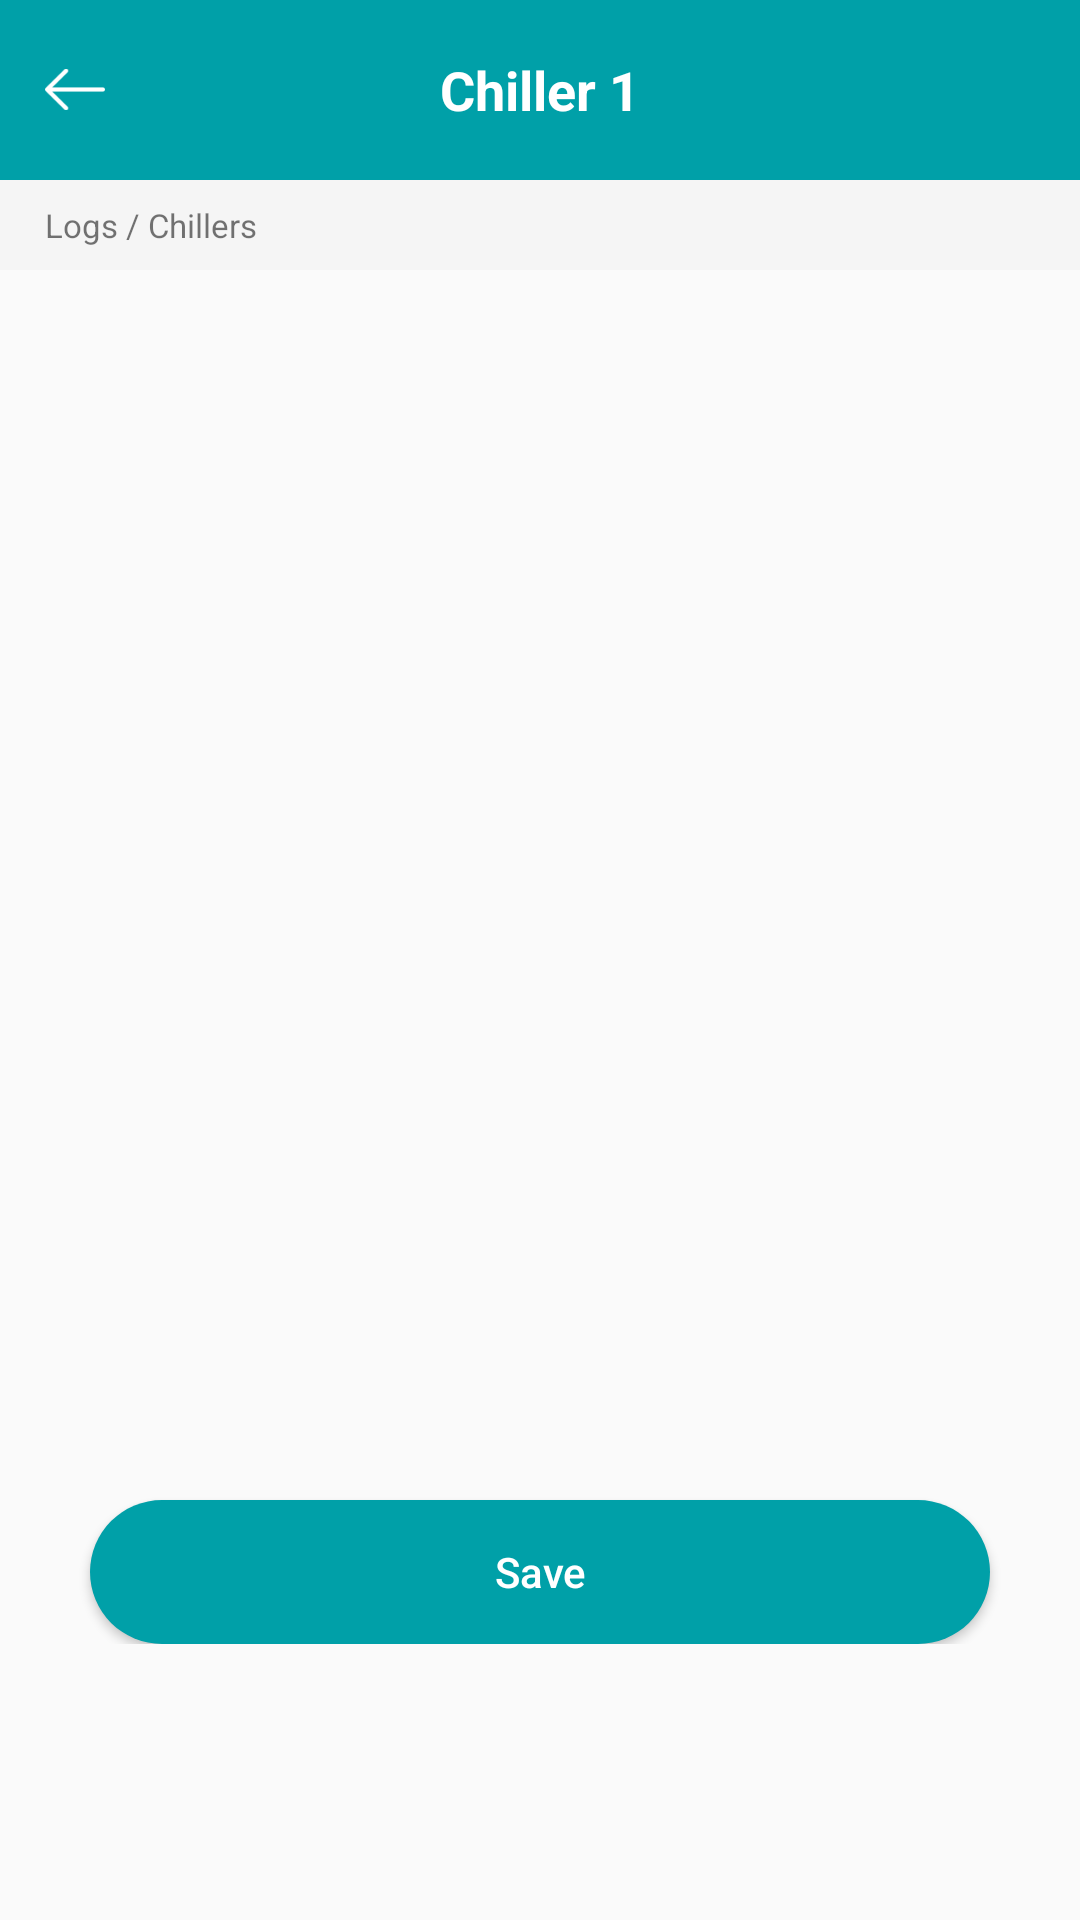

Where to tap for icons on this 1080×1920 app screen, as (x,y):
back: (75,89)
